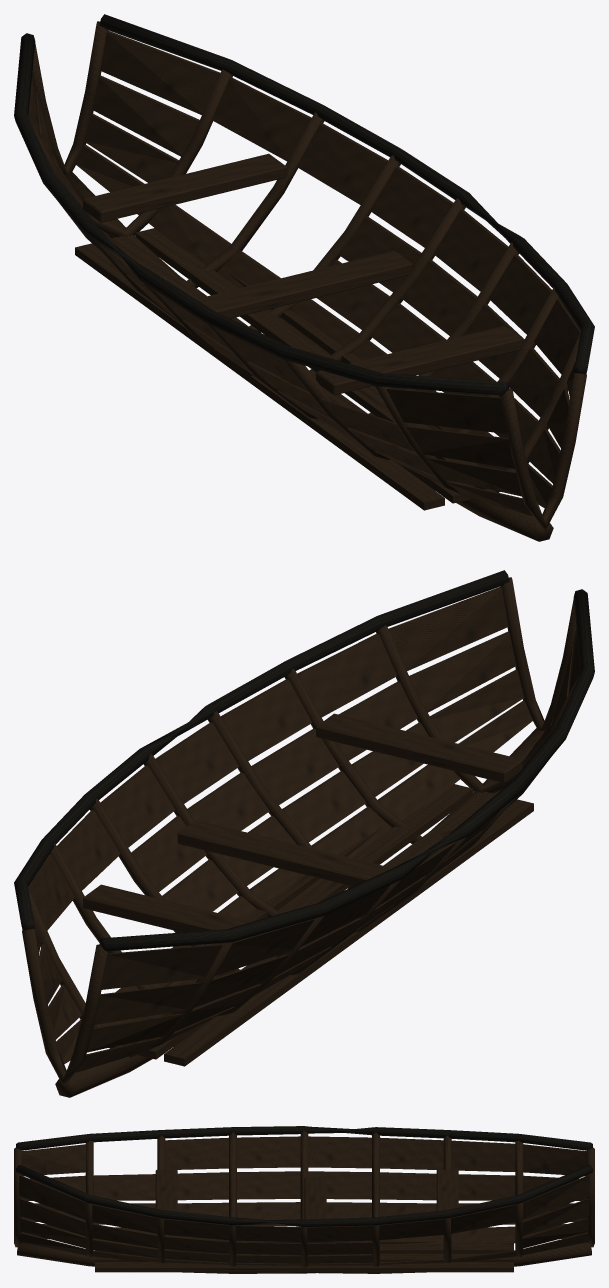
The model's file is stranded_hull.glb.
3 renders of one model, top to bottom at view 1: azimuth 30°, elevation 25°; view 2: azimuth 150°, elevation 25°; view 3: azimuth 270°, elevation 25°, orthographic. The views are drawn at different scales.
Parts seen in each view (by area): view 1: stranded_hull; view 2: stranded_hull; view 3: stranded_hull.
Boxes of the visible parts, x1,y1,x2,y2 form: stranded_hull: (14, 14, 594, 541); stranded_hull: (14, 570, 594, 1097); stranded_hull: (14, 1126, 594, 1273).
Size of the model in its own units: 2.07 by 1.2 by 5.27.
Materials: 1 (1 with a texture image).
